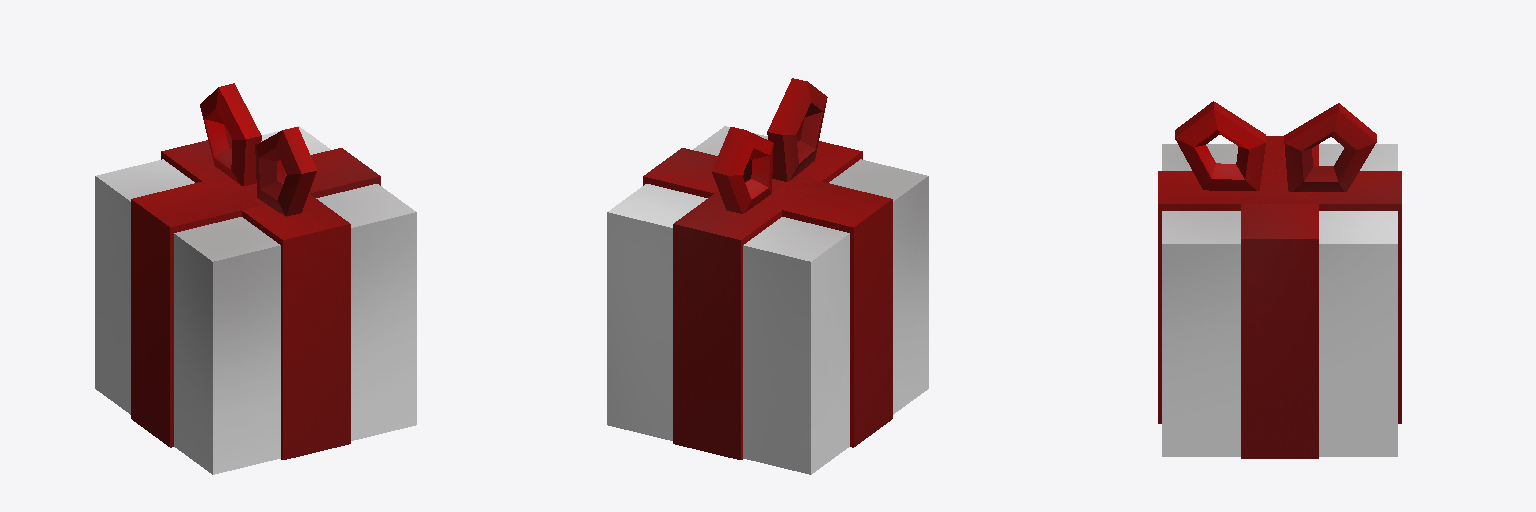
3 renders of one model, left to right at view 1: azimuth 30°, elevation 25°; view 2: azimuth 150°, elevation 25°; view 3: azimuth 270°, elevation 25°, orthographic.
Parts seen in each view (by area): view 1: pCube1, pCube3, pCube2, pTorus1, pTorus2; view 2: pCube1, pCube3, pCube2, pTorus2, pTorus1; view 3: pCube1, pCube2, pCube3, pTorus1, pTorus2.
Boxes of the visible parts, x1=… form: pCube1: x1=95, y1=126, x2=416, y2=474; pCube3: x1=161, y1=140, x2=350, y2=459; pCube2: x1=131, y1=148, x2=380, y2=447; pTorus1: x1=200, y1=83, x2=261, y2=185; pTorus2: x1=255, y1=127, x2=316, y2=216; pCube1: x1=607, y1=126, x2=928, y2=474; pCube3: x1=673, y1=141, x2=862, y2=459; pCube2: x1=643, y1=148, x2=892, y2=447; pTorus2: x1=767, y1=78, x2=827, y2=181; pTorus1: x1=712, y1=127, x2=773, y2=213; pCube1: x1=1162, y1=144, x2=1397, y2=456; pCube2: x1=1241, y1=136, x2=1318, y2=458; pCube3: x1=1158, y1=171, x2=1401, y2=423; pTorus1: x1=1284, y1=103, x2=1376, y2=191; pTorus2: x1=1175, y1=101, x2=1265, y2=190.
Bounding box in the file's own units: 1.55 × 2.14 × 1.55.
1 materials, 1 textured.